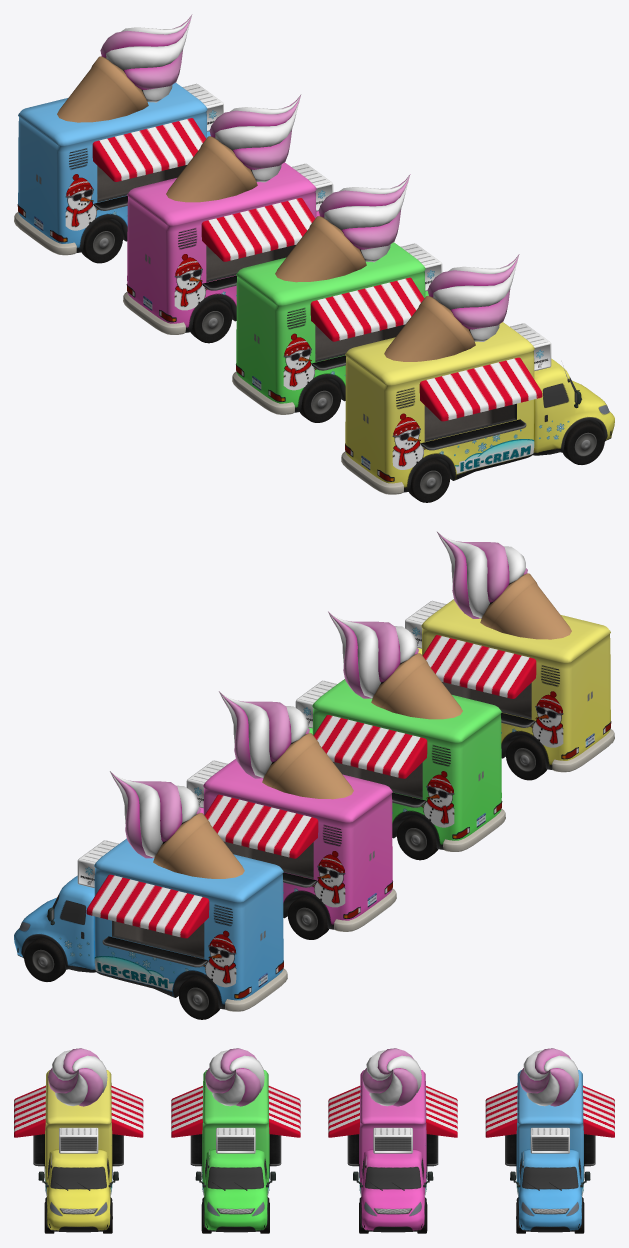
Rendered from ice_cream_van_export.fbx.
The picture shows the model from 3 angles, top to bottom: view 1: azimuth 30°, elevation 25°; view 2: azimuth 150°, elevation 25°; view 3: azimuth 270°, elevation 25°; orthographic projection. The views are drawn at different scales.
Visible parts, largest first — view 1: ice_cream_van.003, ice_cream_van.002, ice_cream_van, ice_cream_van.001, decal_walls.003, decal_walls.002, decal_walls.001, decal_walls; view 2: ice_cream_van.001, ice_cream_van.002, ice_cream_van, ice_cream_van.003, decal_walls.001, decal_walls, decal_walls.002, decal_walls.003; view 3: ice_cream_van, ice_cream_van.002, ice_cream_van.001, ice_cream_van.003.
Boxes of the visible parts, x1=… form: ice_cream_van.003: x1=341, y1=254, x2=614, y2=502; ice_cream_van.002: x1=232, y1=174, x2=442, y2=422; ice_cream_van: x1=123, y1=94, x2=333, y2=343; ice_cream_van.001: x1=14, y1=14, x2=223, y2=263; decal_walls.003: x1=392, y1=350, x2=569, y2=473; decal_walls.002: x1=283, y1=270, x2=434, y2=390; decal_walls.001: x1=65, y1=110, x2=216, y2=230; decal_walls: x1=174, y1=190, x2=325, y2=310; ice_cream_van.001: x1=14, y1=771, x2=287, y2=1019; ice_cream_van.002: x1=295, y1=611, x2=505, y2=860; ice_cream_van: x1=186, y1=691, x2=396, y2=939; ice_cream_van.003: x1=405, y1=531, x2=614, y2=780; decal_walls.001: x1=59, y1=867, x2=236, y2=990; decal_walls: x1=194, y1=787, x2=345, y2=907; decal_walls.002: x1=303, y1=707, x2=454, y2=827; decal_walls.003: x1=412, y1=627, x2=563, y2=747; ice_cream_van: x1=328, y1=1048, x2=457, y2=1233; ice_cream_van.002: x1=171, y1=1048, x2=300, y2=1233; ice_cream_van.001: x1=485, y1=1048, x2=614, y2=1233; ice_cream_van.003: x1=14, y1=1048, x2=143, y2=1233.
Bounding box in the file's own units: 768 × 622 × 2294.
